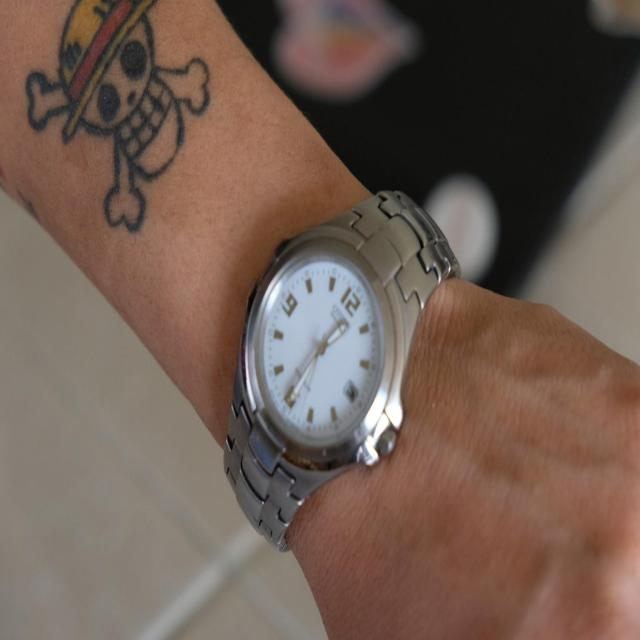Wrist watch: (222, 187, 456, 552)
